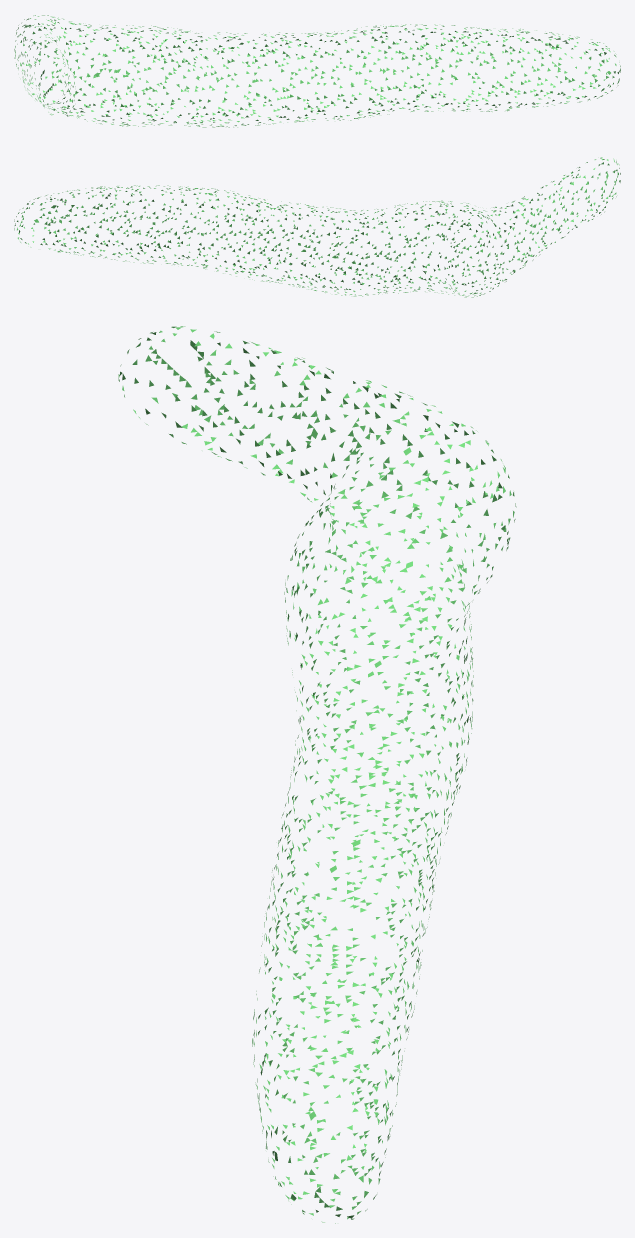
The model's file is morph_018.glb.
3 views of the same model, one above another, from view 1: azimuth 30°, elevation 25°; view 2: azimuth 150°, elevation 25°; view 3: azimuth 270°, elevation 25° (orthographic). The views are drawn at different scales.
Size of the model in its own units: 129 by 41.95 by 40.05.
